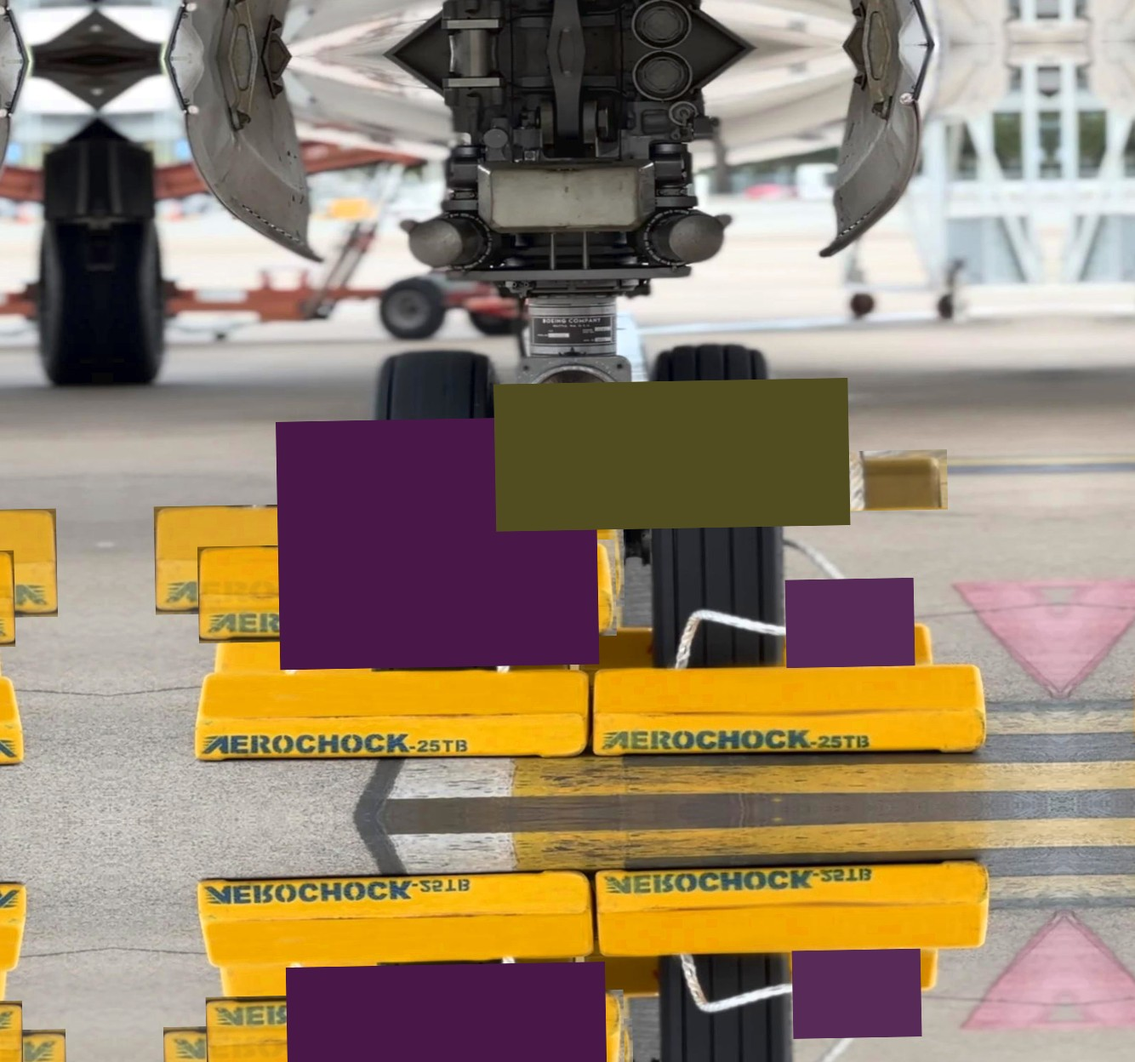chock: (154, 498, 625, 615), (197, 539, 617, 643), (193, 665, 591, 766), (197, 868, 595, 969), (592, 661, 990, 760), (595, 860, 993, 959), (486, 449, 948, 518), (206, 990, 625, 1062), (163, 1019, 634, 1062), (210, 623, 575, 678), (216, 956, 581, 1011), (584, 947, 945, 1000), (578, 621, 939, 673)
wheel: (366, 346, 509, 670), (644, 342, 781, 671), (655, 952, 792, 1062), (377, 962, 520, 1062), (35, 238, 96, 382), (105, 237, 166, 381), (379, 278, 443, 338), (469, 305, 518, 335)
